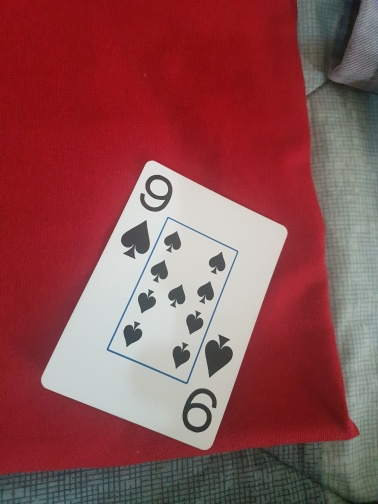nine: (39, 162, 289, 449)
